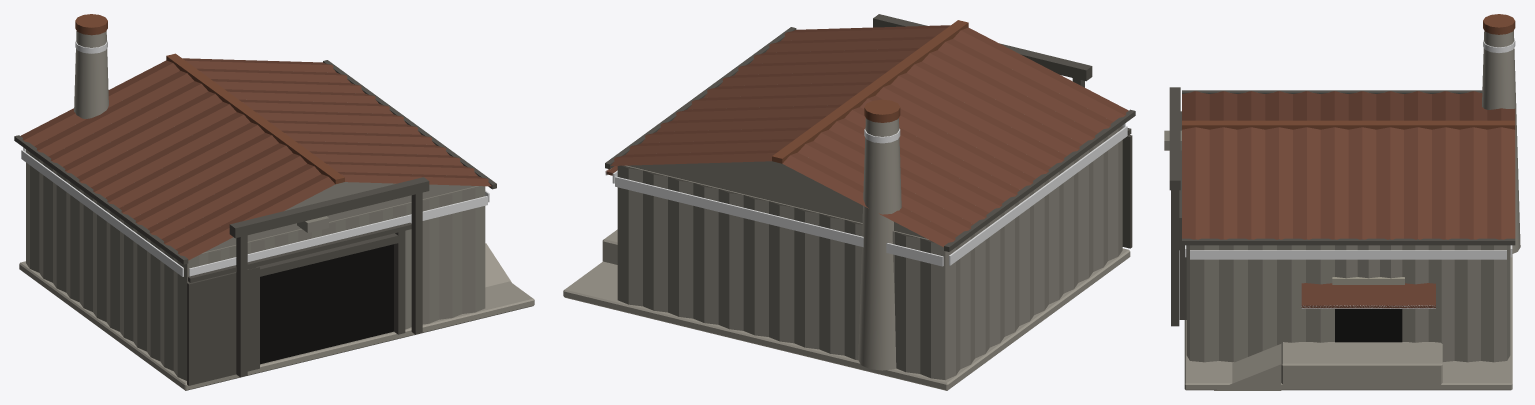
3 renders of one model, left to right at view 1: azimuth 30°, elevation 25°; view 2: azimuth 150°, elevation 25°; view 3: azimuth 270°, elevation 25°, orthographic. The views are drawn at different scales.
Parts seen in each view (by area): view 1: dweller_building_robotfactory; view 2: dweller_building_robotfactory; view 3: dweller_building_robotfactory.
Boxes of the visible parts, x1,y1,x2,y2 form: dweller_building_robotfactory: (14,14,534,390); dweller_building_robotfactory: (563,14,1135,390); dweller_building_robotfactory: (1164,14,1520,390).
Bounding box in the file's own units: 14.92 × 9.6 × 13.25.
